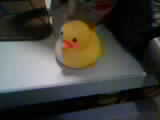duck: (49, 4, 104, 73)
